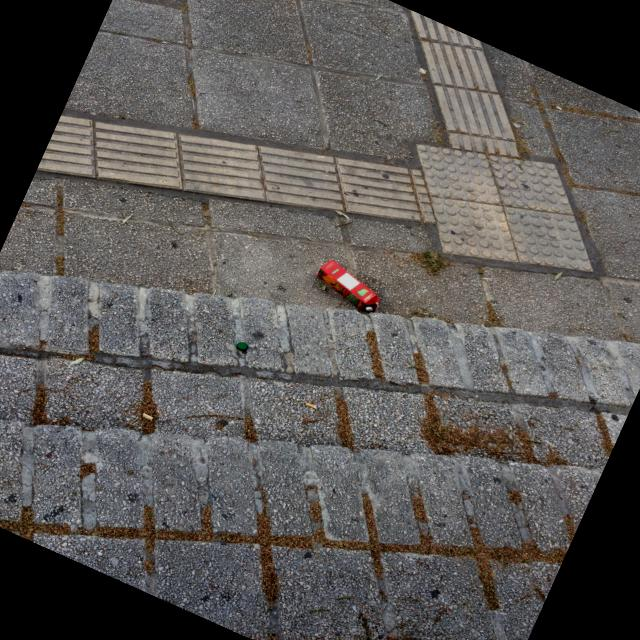Bottle cap: (236, 343, 247, 351)
Cigarette: (305, 402, 316, 409), (142, 414, 152, 421), (419, 69, 425, 74)
Food Carton: (317, 260, 379, 313)
